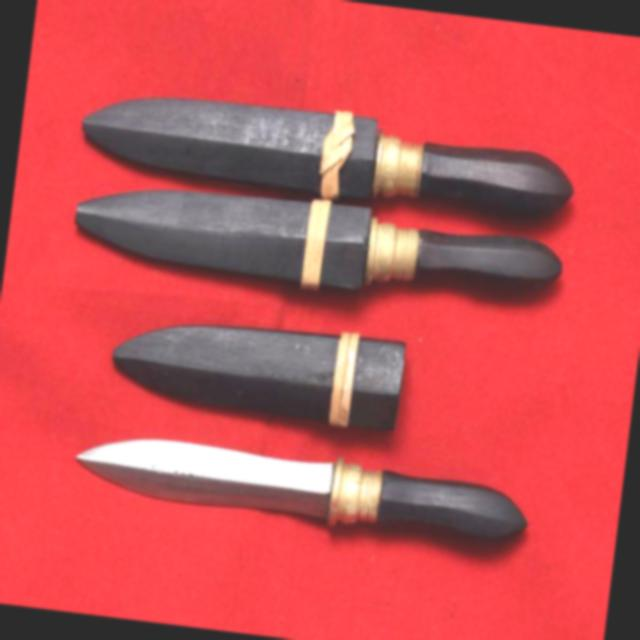short sword: (50, 297, 571, 579), (48, 44, 608, 242), (51, 171, 583, 351)
